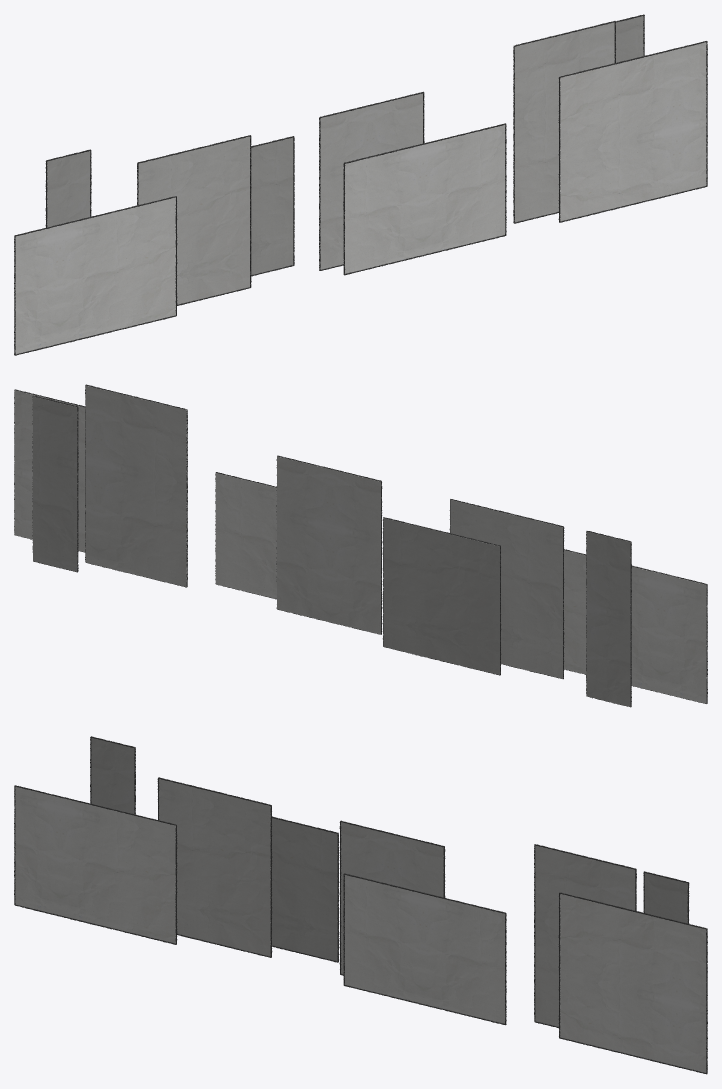
File: decor_level0.glb
3 renders of one model, top to bottom at view 1: azimuth 30°, elevation 25°; view 2: azimuth 150°, elevation 25°; view 3: azimuth 330°, elevation 25°, orthographic.
Visible parts, largest first — view 1: tutorial_laag8, tutorial_laag9, tutorial_laag10; view 2: tutorial_laag9, tutorial_laag10, tutorial_laag8; view 3: tutorial_laag8, tutorial_laag9, tutorial_laag10.
Boxes of the visible parts, x1,y1,x2,y2 form: tutorial_laag8: (14, 41, 707, 355); tutorial_laag9: (137, 21, 616, 305); tutorial_laag10: (45, 14, 644, 276); tutorial_laag9: (85, 384, 564, 679); tutorial_laag10: (32, 395, 631, 707); tutorial_laag8: (14, 389, 707, 703); tutorial_laag8: (14, 785, 707, 1074); tutorial_laag9: (157, 777, 636, 1027); tutorial_laag10: (90, 736, 689, 962).
Bounding box in the file's own units: 54.13 × 13.33 × 3.14.
4 materials, 3 textured.
